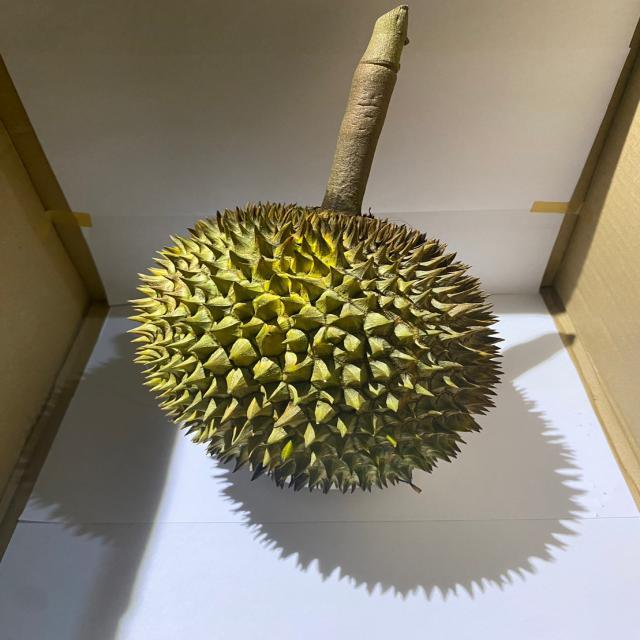immature: (119, 197, 505, 494)
